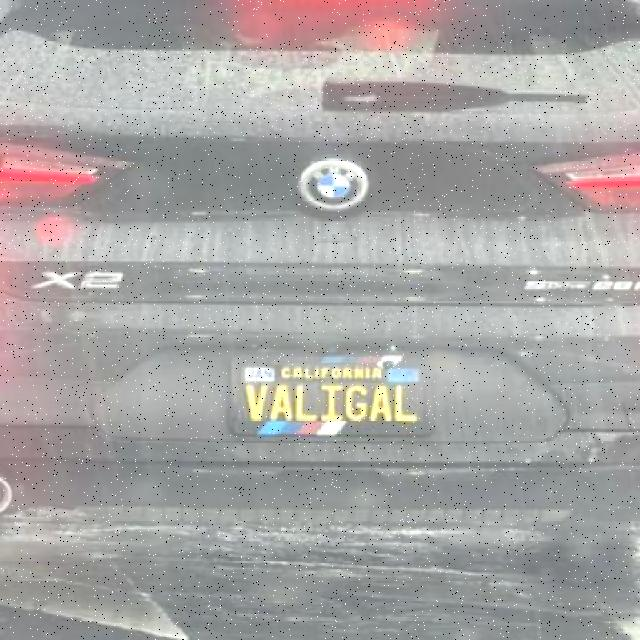licenseplate: (225, 355, 436, 437)
